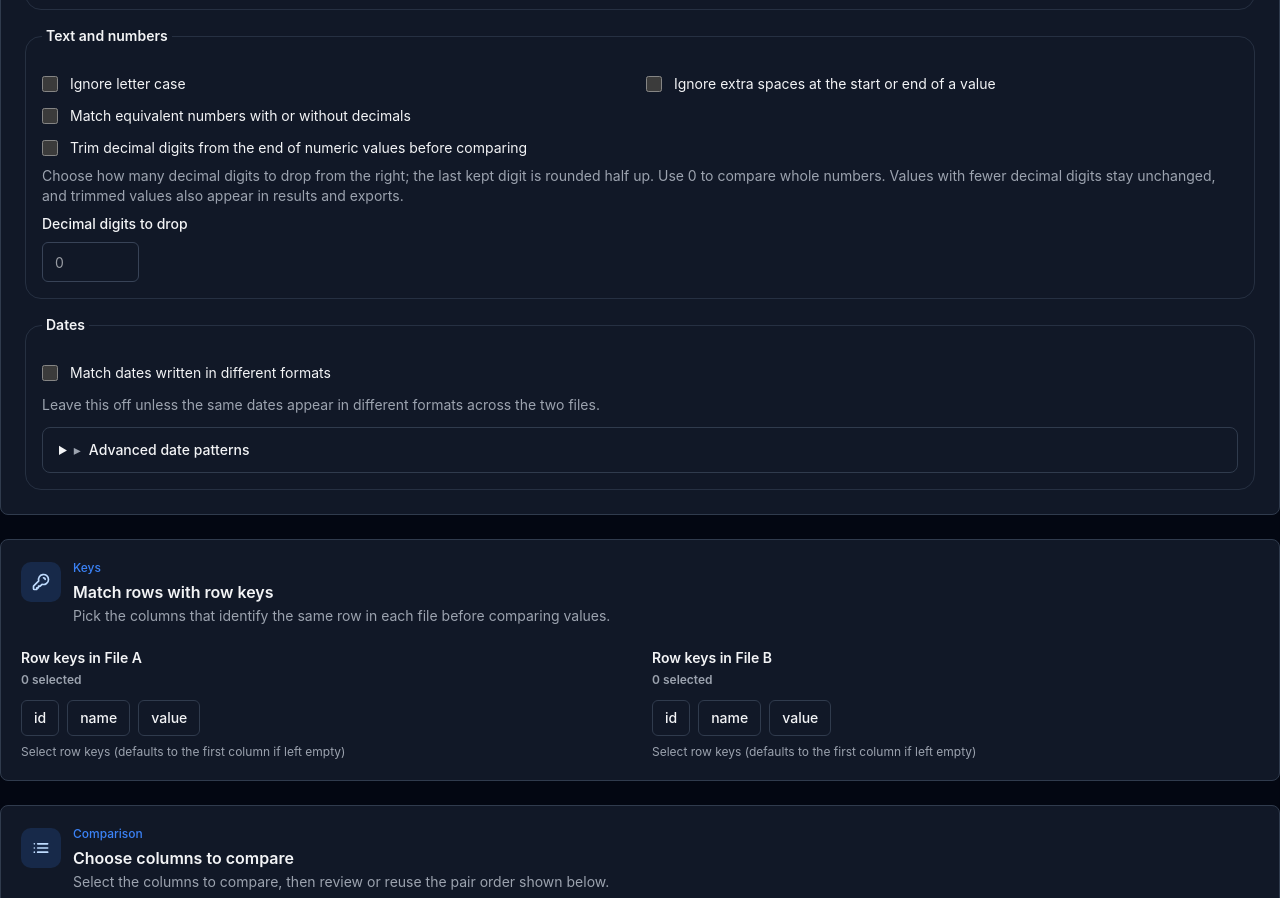
Test case: keeps advanced date controls collapsed by default and lets users reveal them
(page scrolled)
Click the heading "▸ Advanced date patterns" at (162, 450), box [74,441,250,458]
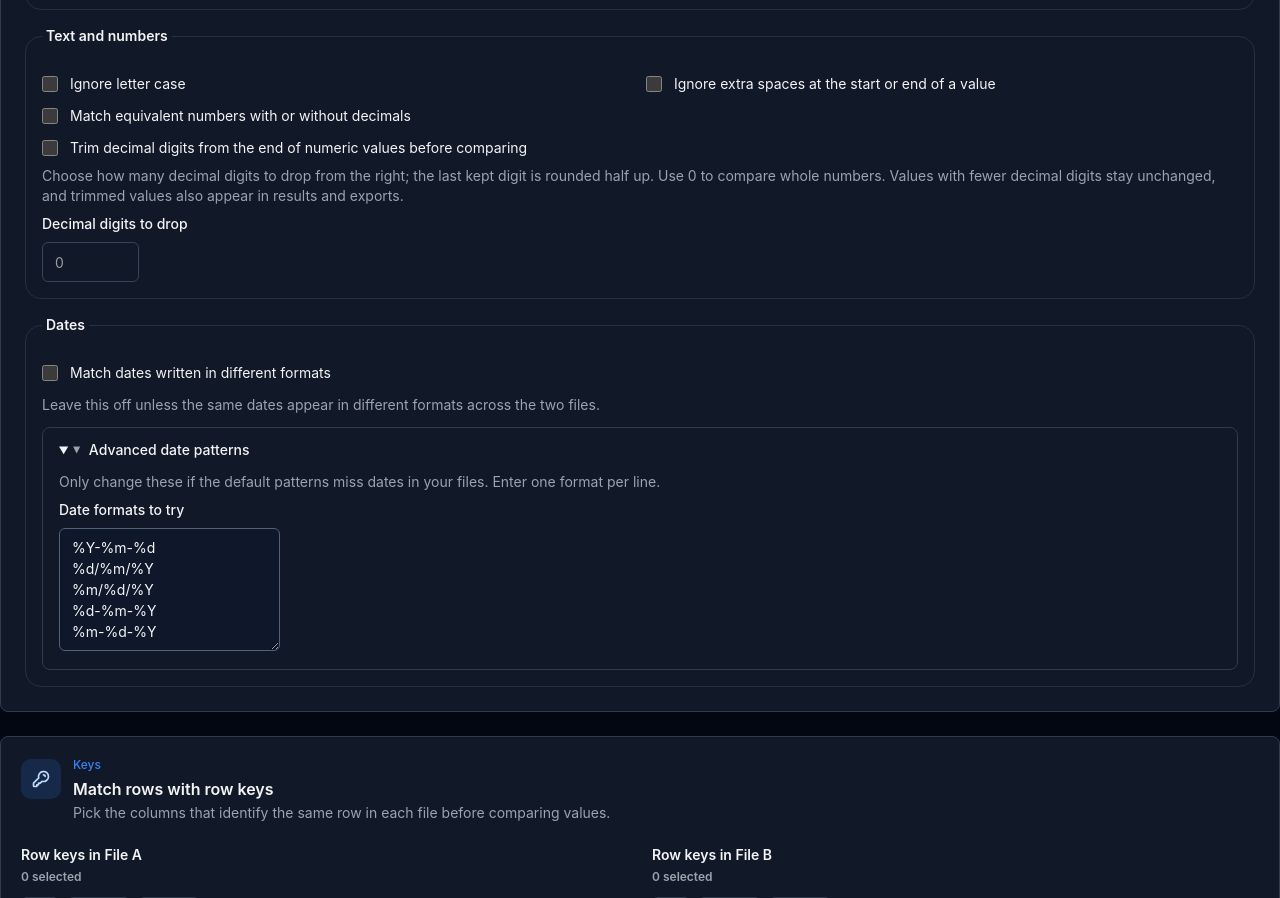
Expected: the text "Date formats to try" is shown, [59,501,184,518]
